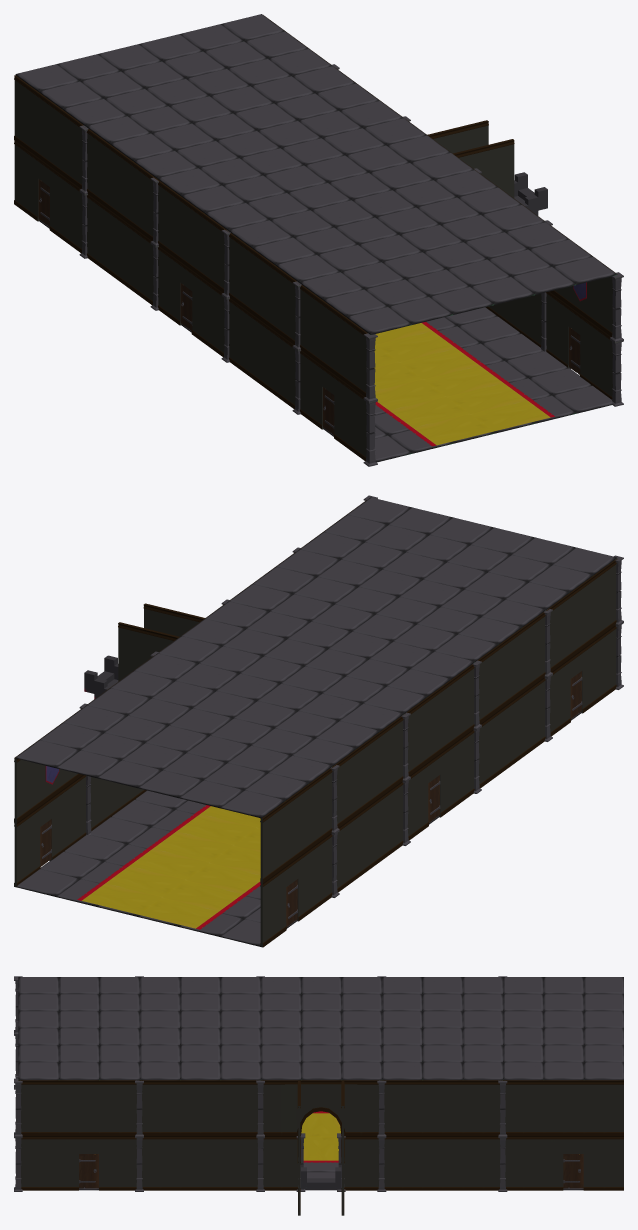
File: CastleModule2.fbx
The picture shows the model from 3 angles, top to bottom: view 1: azimuth 30°, elevation 25°; view 2: azimuth 150°, elevation 25°; view 3: azimuth 270°, elevation 25°; orthographic projection. The views are drawn at different scales.
Visible parts, largest first — view 1: CarpetHall.030, CarpetHall.033, CarpetHall.036, CarpetHall.032, CarpetHall.034, CarpetHall.040, CarpetHall.038, CarpetHall.035, HalfWallHall.223, WallDoorHall.007, FloorTileHall.273, WallDoorHall.008 (+157 smaller); view 2: CarpetHall.051, CarpetHall.053, CarpetHall.057, CarpetHall.058, CarpetHall.059, CarpetHall.055, CarpetHall.056, CarpetHall.054, WallDoorHall.008, WallDoorHall.006, WallDoorHall.010, HalfWallHall.222 (+154 smaller); view 3: ArchHall, WallDoorHall.007, WallDoorHall.011, HalfWallHall.185, HalfWallHall.186, HalfWallHall.189, HalfWallHall.191, HalfWallHall.192, HalfWallHall.202, HalfWallHall.203, HalfWallHall.204, HalfWallHall.207 (+147 smaller).
Part boxes in pixels (x1,y1,x2,y2): CarpetHall.030: (409,414,493,446); CarpetHall.033: (385,397,469,428); CarpetHall.036: (423,364,507,396); CarpetHall.032: (470,399,554,431); CarpetHall.034: (447,382,531,413); CarpetHall.040: (375,330,460,361); CarpetHall.038: (399,347,483,379); CarpetHall.035: (375,379,445,411); HalfWallHall.223: (493,139,514,198); WallDoorHall.007: (568,305,592,384); FloorTileHall.273: (347,307,411,334); WallDoorHall.008: (180,261,203,342); CarpetHall.051: (172,813,256,845); CarpetHall.053: (148,830,232,862); CarpetHall.057: (101,865,185,897); CarpetHall.058: (139,897,223,929); CarpetHall.059: (77,882,161,914); CarpetHall.055: (125,848,209,879); CarpetHall.056: (162,880,246,912); CarpetHall.054: (186,863,260,894); WallDoorHall.008: (428,745,452,817); WallDoorHall.006: (570,641,594,713); WallDoorHall.010: (286,849,310,921); HalfWallHall.222: (118,622,139,681); ArchHall: (281,1080,361,1135); WallDoorHall.007: (58,1136,98,1190); WallDoorHall.011: (543,1136,583,1190); HalfWallHall.185: (38,1080,58,1135); HalfWallHall.186: (99,1080,119,1135); HalfWallHall.189: (159,1080,179,1135); HalfWallHall.191: (200,1080,220,1135); HalfWallHall.192: (220,1080,240,1135); HalfWallHall.202: (422,1080,442,1135); HalfWallHall.203: (442,1080,462,1135); HalfWallHall.204: (462,1080,482,1135); HalfWallHall.207: (523,1080,543,1135).
Size of the model in its own units: 1695 by 610 by 3022.
